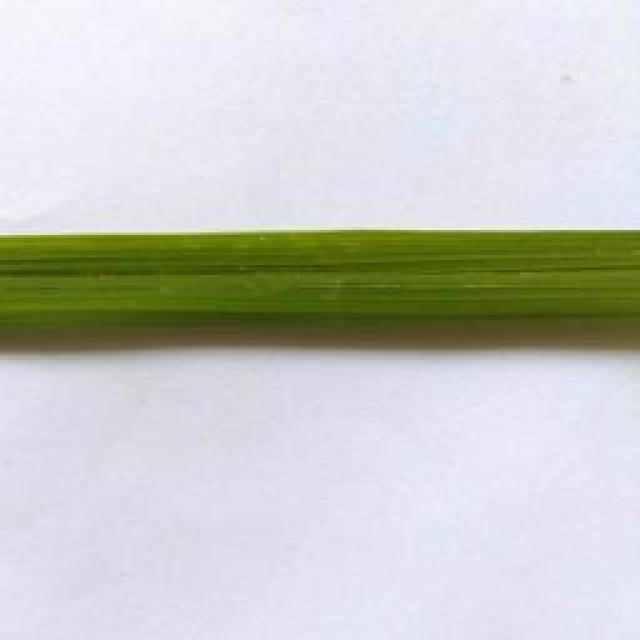Healthy-Plant: (0, 229, 640, 332)
